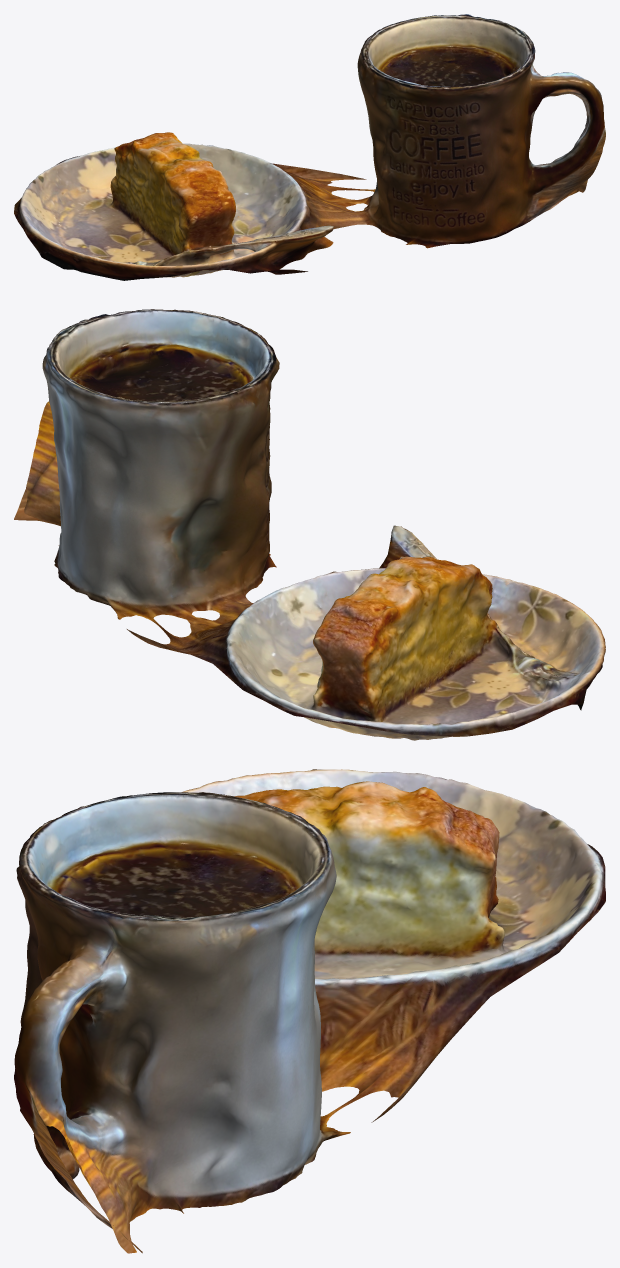
Rendered from breadCoffy.glb.
3 views of the same model, one above another, from view 1: azimuth 30°, elevation 25°; view 2: azimuth 150°, elevation 25°; view 3: azimuth 270°, elevation 25° (orthographic). The views are drawn at different scales.
Visible parts, largest first — view 1: model; view 2: model; view 3: model.
Boxes of the visible parts, box(x1,y1,x2,y2) form: model: box(14, 14, 605, 280); model: box(14, 309, 605, 740); model: box(14, 769, 605, 1253).
Size of the model in its own units: 0.1936 by 0.0617 by 0.1125.
1 material, 1 textured.
